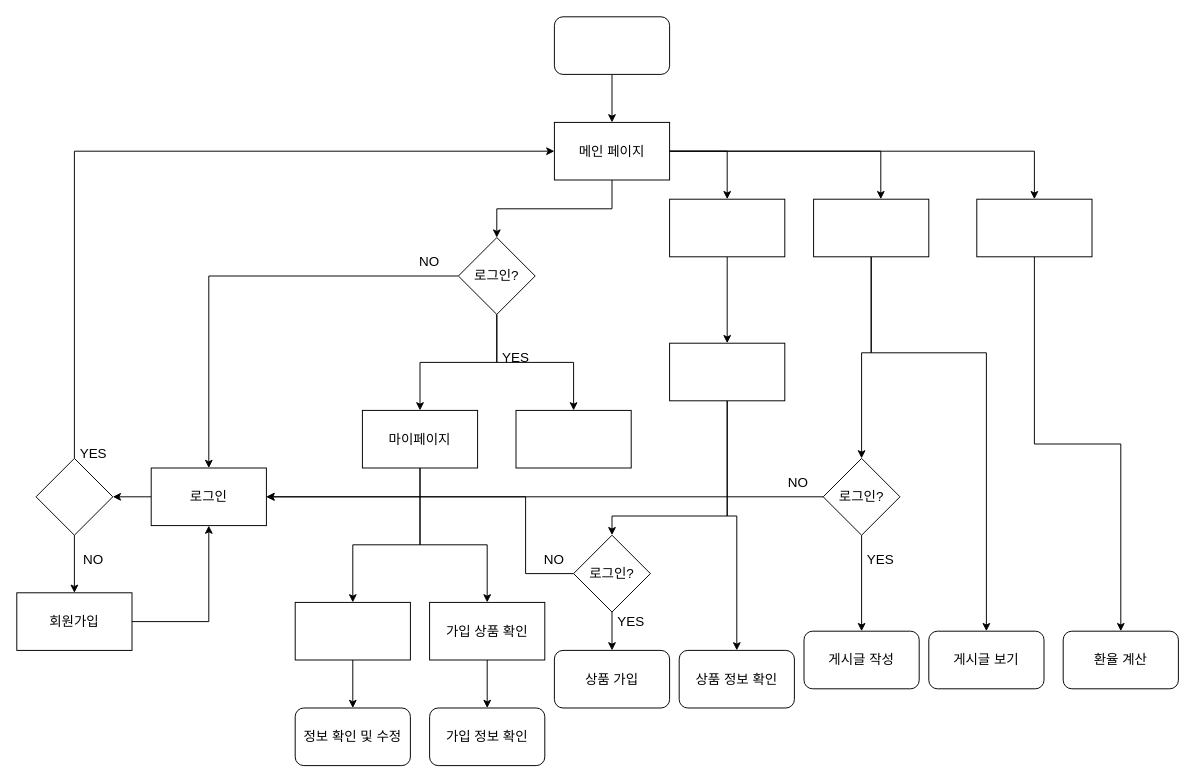
Some shapes in this 1195 by 782 pixel diagram are drawn without their labels. The shapes that lost their labels are listed below. From the top down, each one's centre as x and y in pixels, then its label:
At point 611,45: "서비스 접속".
At point 727,227: "상품 비교".
At point 871,227: "커뮤니티".
At point 1034,227: "환율".
At point 727,371: "상품 상세".
At point 573,438: "상품 추천".
At point 74,496: "회원?".
At point 352,630: "회원 정보".
